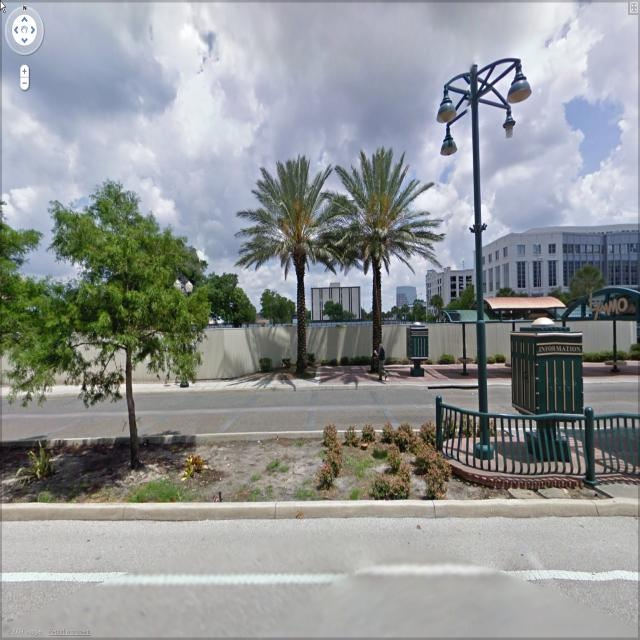b_1: (481, 216, 563, 316), (563, 216, 637, 315), (421, 264, 477, 315), (310, 278, 362, 322)
